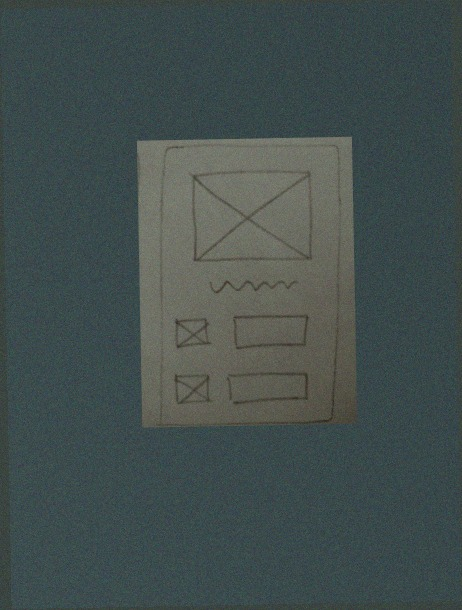image: (186, 165, 316, 268), (171, 316, 214, 353), (171, 372, 213, 409)
text: (205, 275, 299, 298)
text_input: (229, 312, 313, 355), (224, 368, 312, 407)
